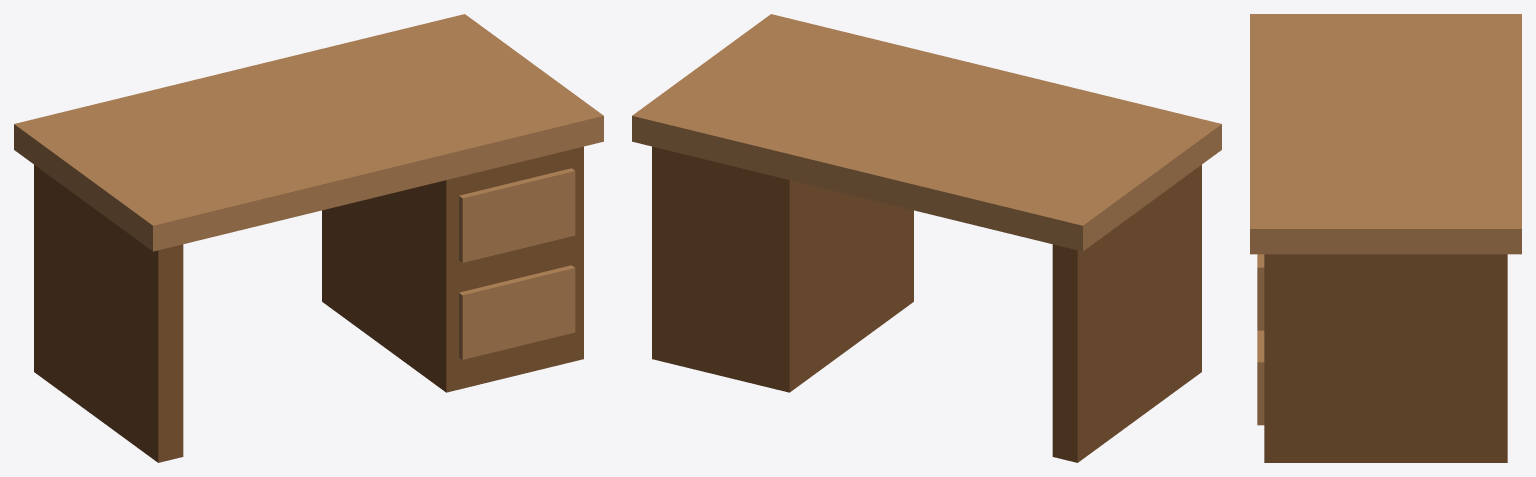
File: desk.glb
3 renders of one model, left to right at view 1: azimuth 30°, elevation 25°; view 2: azimuth 150°, elevation 25°; view 3: azimuth 270°, elevation 25°, orthographic. The views are drawn at different scales.
Parts seen in each view (by area): view 1: desk; view 2: desk; view 3: desk.
Part boxes in pixels (x1=…): desk: x1=14, y1=14, x2=603, y2=462; desk: x1=632, y1=14, x2=1221, y2=462; desk: x1=1250, y1=14, x2=1521, y2=462.
Size of the model in its own units: 0.73 by 0.38 by 0.39.
1 material, 1 textured.
